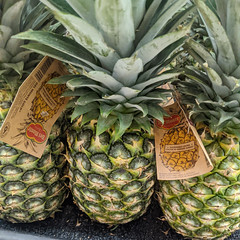Pineapple: (36, 2, 189, 224), (154, 17, 240, 238), (1, 4, 71, 233)
